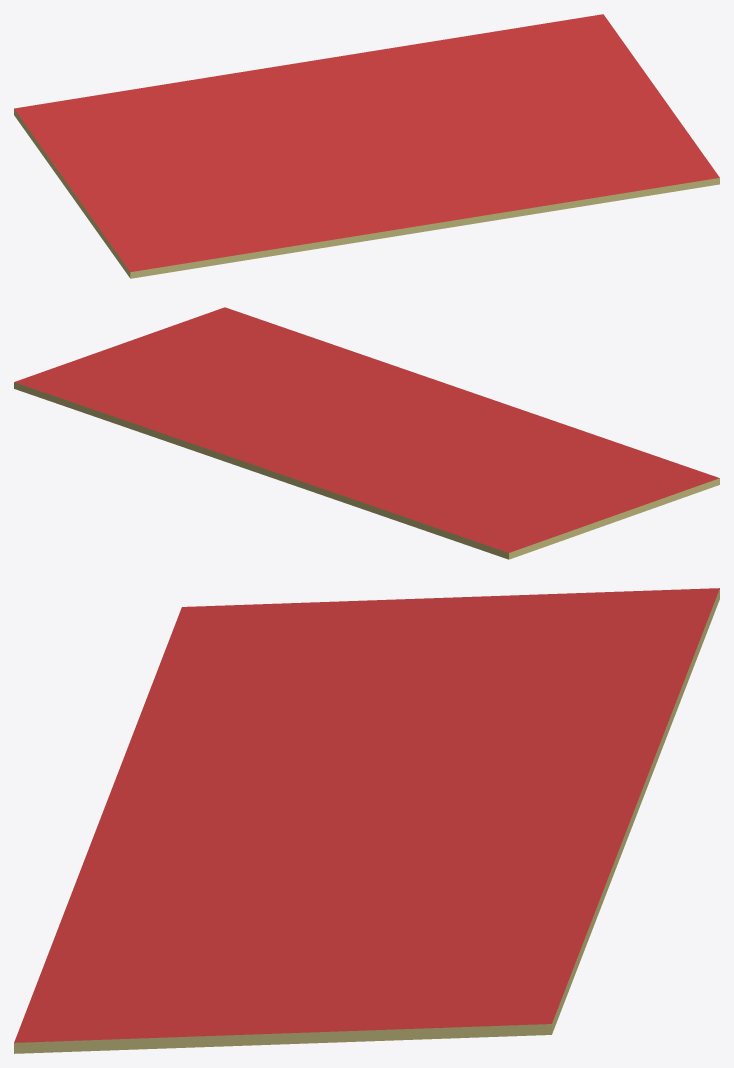
3 renders of one model, top to bottom at view 1: azimuth 30°, elevation 25°; view 2: azimuth 150°, elevation 25°; view 3: azimuth 270°, elevation 25°, orthographic. The views are drawn at different scales.
Bounding box in the file's own units: 9.26 × 5.84 × 0.611.
